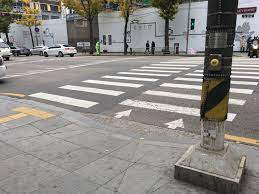guide_blocks: (14, 107, 52, 117), (1, 115, 26, 121)
